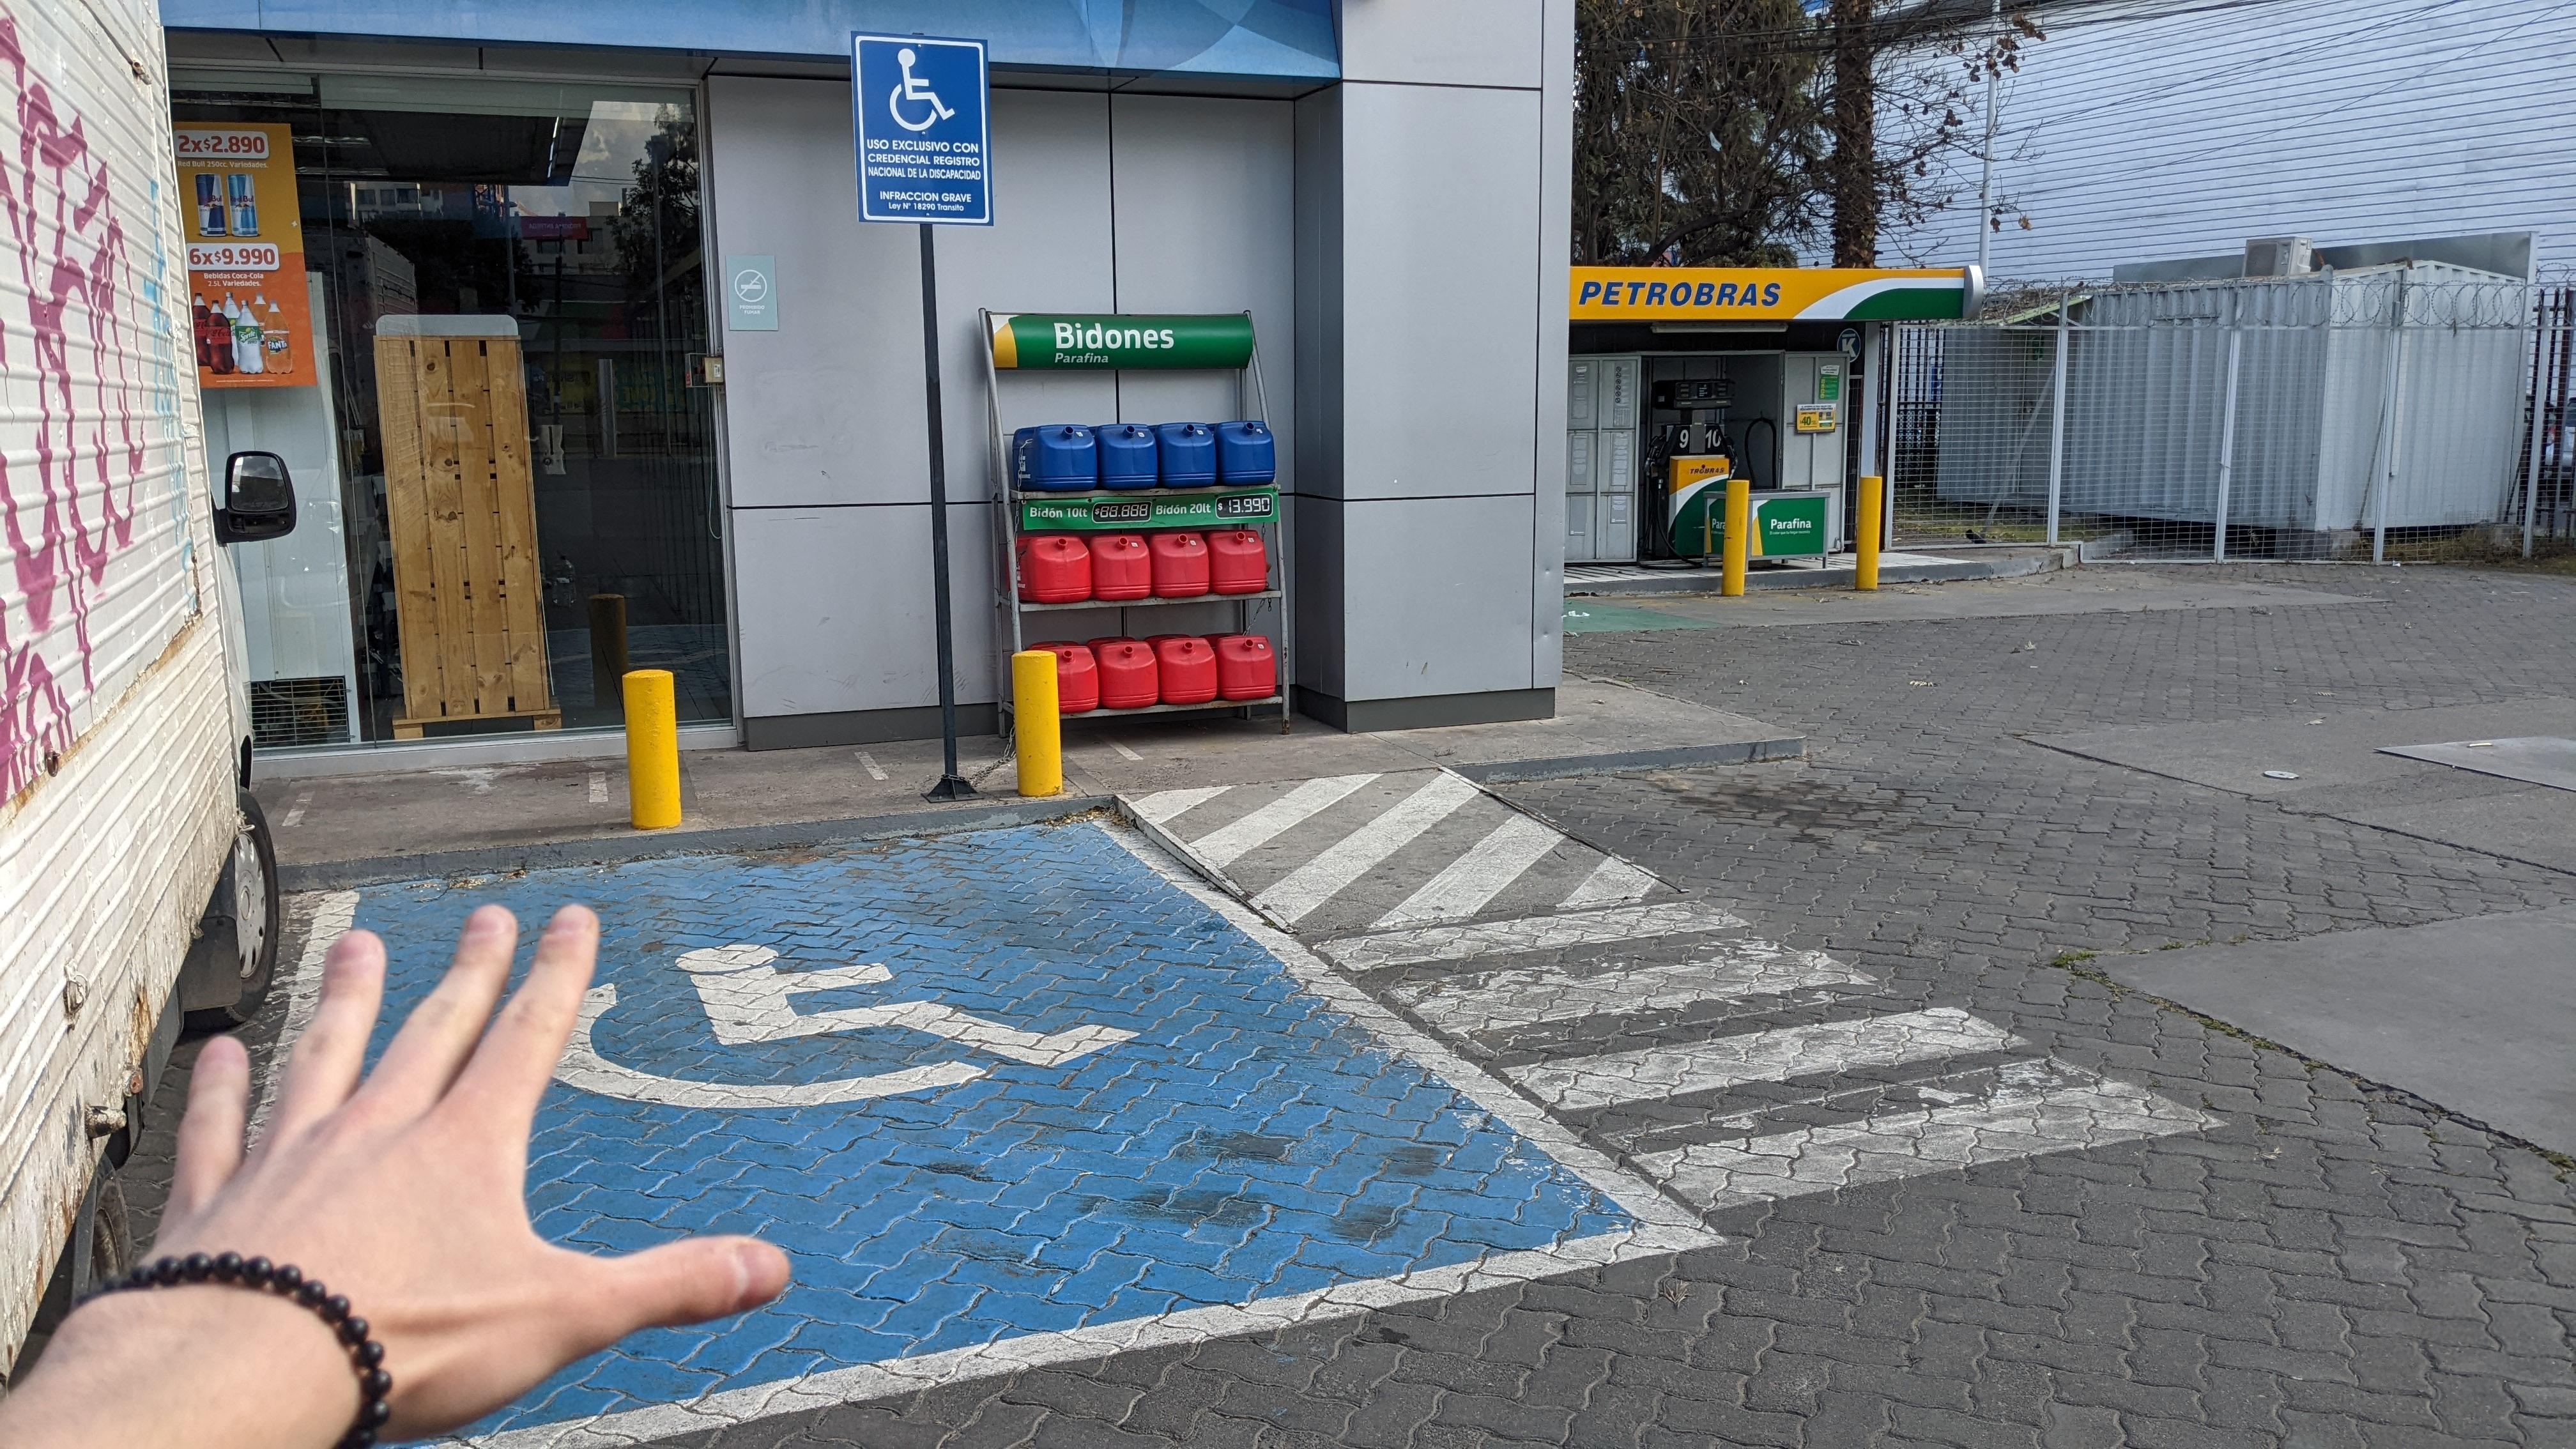handicapped symbol: (540, 934, 1150, 1108), (888, 44, 957, 133)
